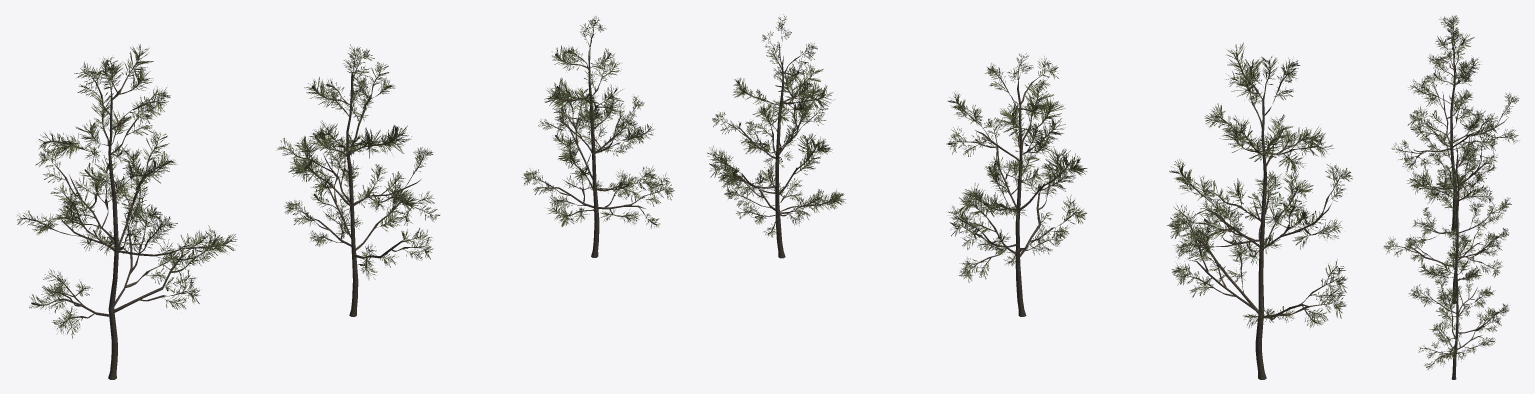
The model's file is pine_sapling_small.glb.
3 renders of one model, left to right at view 1: azimuth 30°, elevation 25°; view 2: azimuth 150°, elevation 25°; view 3: azimuth 270°, elevation 25°, orthographic. The views are drawn at different scales.
Parts seen in each view (by area): view 1: pine_sapling_small_a, pine_sapling_small_b, pine_sapling_small_c; view 2: pine_sapling_small_a, pine_sapling_small_b, pine_sapling_small_c; view 3: pine_sapling_small_a, pine_sapling_small_b, pine_sapling_small_c.
Boxes of the visible parts, box(x1,y1,x2,y2) form: pine_sapling_small_a: box(17, 44, 237, 379); pine_sapling_small_b: box(276, 44, 440, 316); pine_sapling_small_c: box(522, 16, 674, 257); pine_sapling_small_a: box(1167, 42, 1352, 379); pine_sapling_small_b: box(946, 53, 1087, 316); pine_sapling_small_c: box(707, 14, 845, 258); pine_sapling_small_a: box(1391, 15, 1519, 231); pine_sapling_small_b: box(1383, 134, 1511, 304); pine_sapling_small_c: box(1408, 223, 1509, 379).
Bounding box in the file's own units: 2.64 × 1.3 × 0.7703.
Materials: 2 (2 with a texture image).
